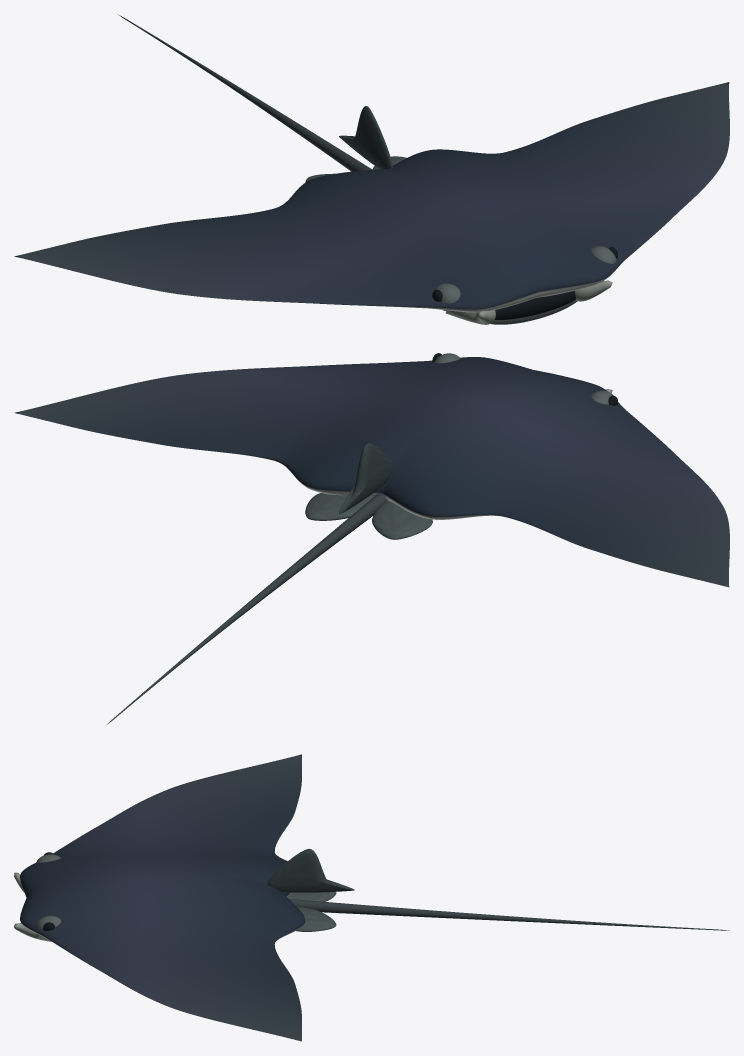
Rendered from bentfin_devil_ray.glb.
3 views of the same model, one above another, from view 1: azimuth 30°, elevation 25°; view 2: azimuth 150°, elevation 25°; view 3: azimuth 270°, elevation 25° (orthographic). The views are drawn at different scales.
Parts seen in each view (by area): view 1: Kuroshio.bentfin_devil_ray.Body; view 2: Kuroshio.bentfin_devil_ray.Body; view 3: Kuroshio.bentfin_devil_ray.Body.
Boxes of the visible parts, bbox=[...] form: Kuroshio.bentfin_devil_ray.Body: bbox=[14, 14, 729, 324]; Kuroshio.bentfin_devil_ray.Body: bbox=[14, 353, 729, 724]; Kuroshio.bentfin_devil_ray.Body: bbox=[14, 754, 729, 1041].
Size of the model in its own units: 1.7 by 0.2193 by 1.79.
